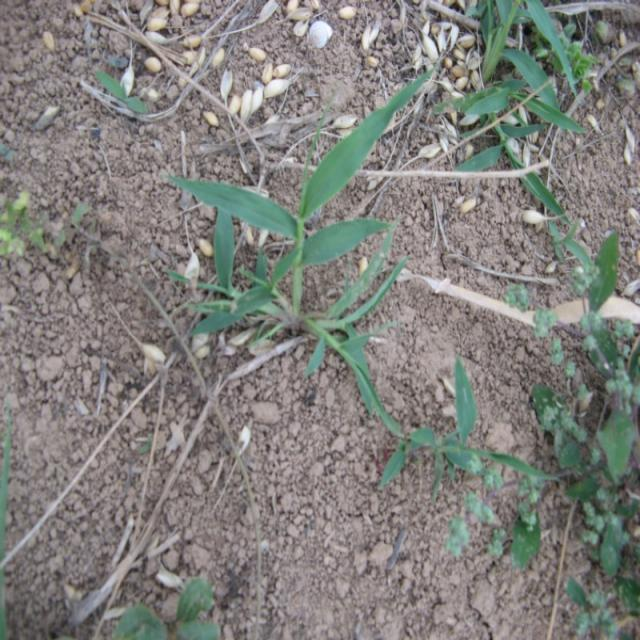bg: (171, 71, 410, 414)
